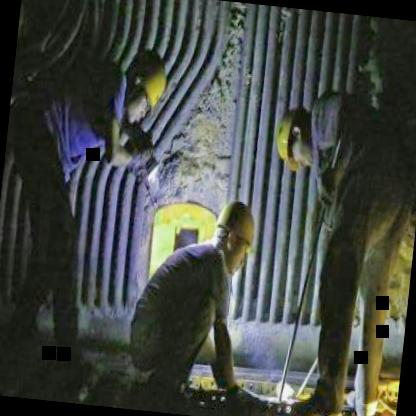helmet: (116, 42, 177, 129), (270, 103, 326, 171), (212, 196, 260, 273)
